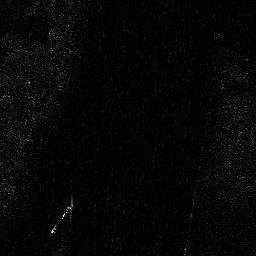ship: (50, 204, 73, 233)
